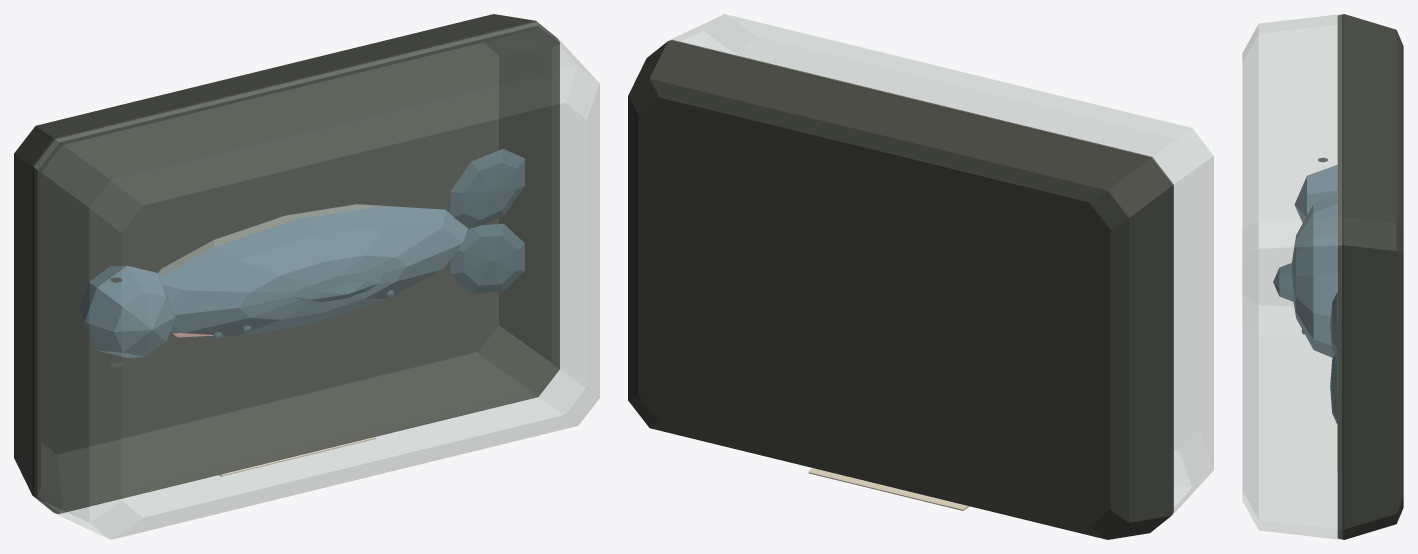
File: trout.glb
3 renders of one model, left to right at view 1: azimuth 30°, elevation 25°; view 2: azimuth 150°, elevation 25°; view 3: azimuth 270°, elevation 25°, orthographic. The views are drawn at different scales.
Visible parts, largest first — view 1: trout; view 2: trout; view 3: trout.
Boxes of the visible parts, bbox=[...] form: trout: bbox=[14, 14, 599, 539]; trout: bbox=[628, 14, 1213, 539]; trout: bbox=[1242, 14, 1403, 539].
Bounding box in the file's own units: 0.22 × 0.152 × 0.068.
